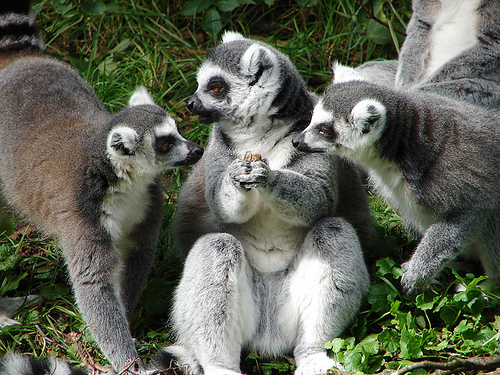cat: (1, 30, 374, 374), (0, 55, 205, 374), (289, 60, 499, 295)
